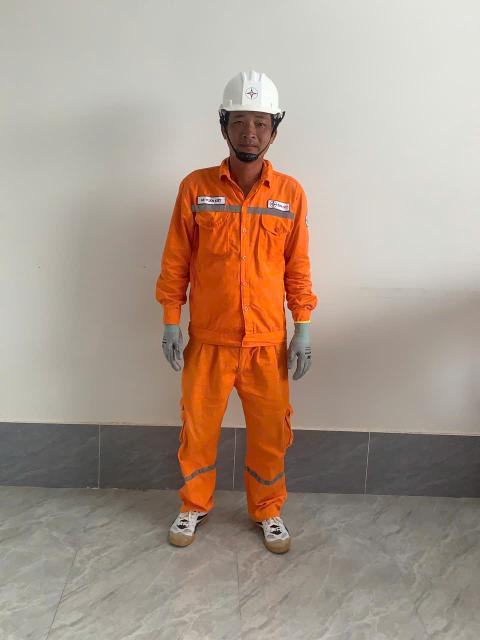gloves: (156, 317, 201, 381), (276, 314, 312, 387)
helmet: (214, 48, 294, 135)
shoes: (156, 493, 223, 561), (231, 503, 297, 552)
